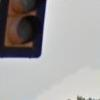Traffic light: (6, 2, 48, 61)
